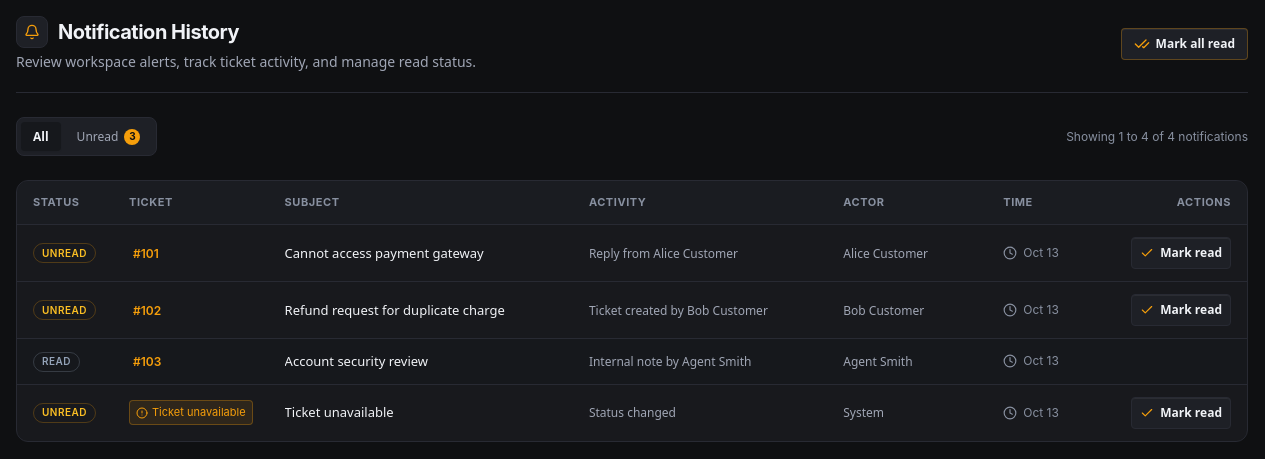
NotificationHistoryView Component › filters by Unread tab with accurate pagination totals
The image size is (1265, 459).
expect the text "Account security review" is shown: met, box [285,352,428,370]
Click the tab with test id "filter-tab-unread".
click(108, 136)  # box [65,122,152,151]
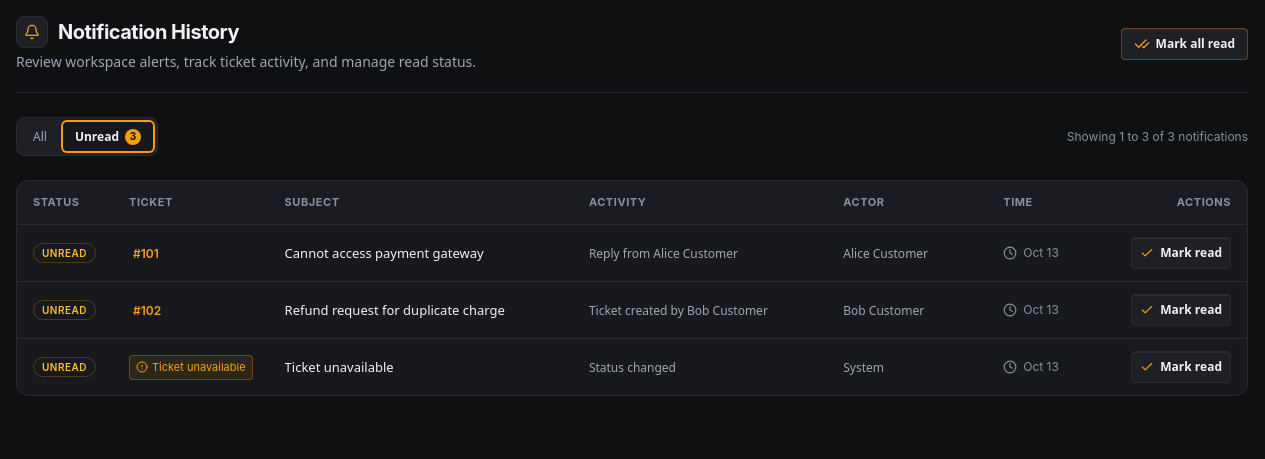
expect the text "Cannot access payment gateway" is shown: met, box [285,244,484,262]
expect the text "Account security review" is gone: met
